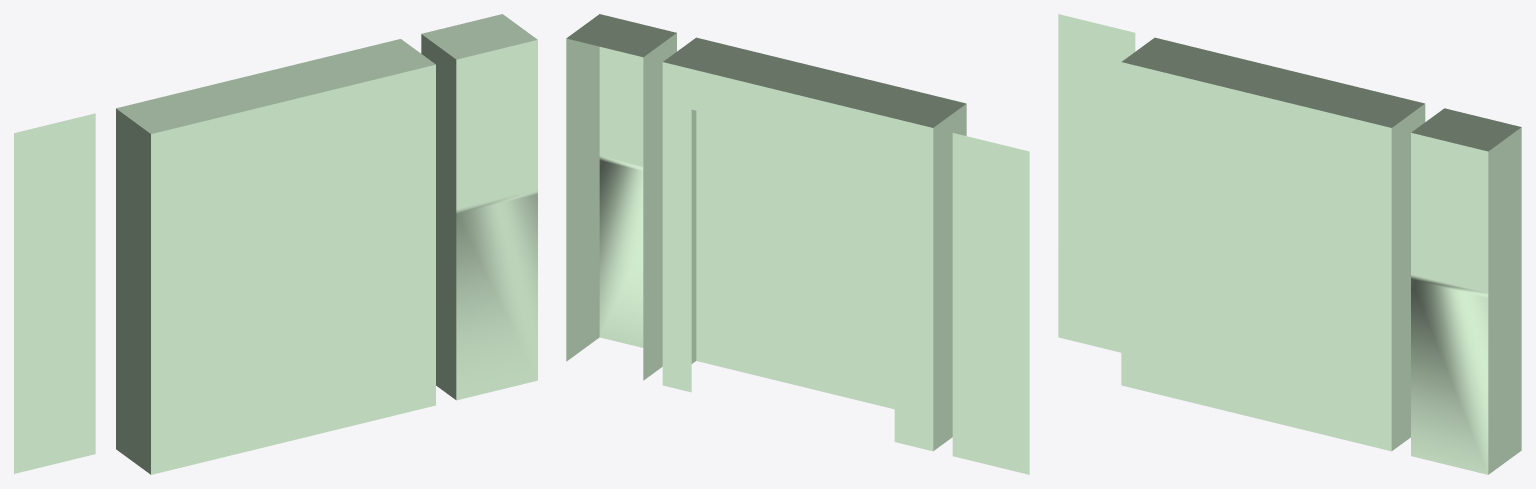
The model's file is 5_material7_armadio.fbx.
The picture shows the model from 3 angles, left to right: view 1: azimuth 30°, elevation 25°; view 2: azimuth 150°, elevation 25°; view 3: azimuth 330°, elevation 25°; orthographic projection. The views are drawn at different scales.
Parts seen in each view (by area): view 1: 5_material7_1_0_0.002_armadio; view 2: 5_material7_1_0_0.002_armadio; view 3: 5_material7_1_0_0.002_armadio.
Part boxes in pixels (x1,y1,x2,y2): 5_material7_1_0_0.002_armadio: [14, 14, 537, 474]; 5_material7_1_0_0.002_armadio: [566, 14, 1029, 474]; 5_material7_1_0_0.002_armadio: [1058, 14, 1521, 474].
Size of the model in its own units: 2814 by 1876 by 352.
